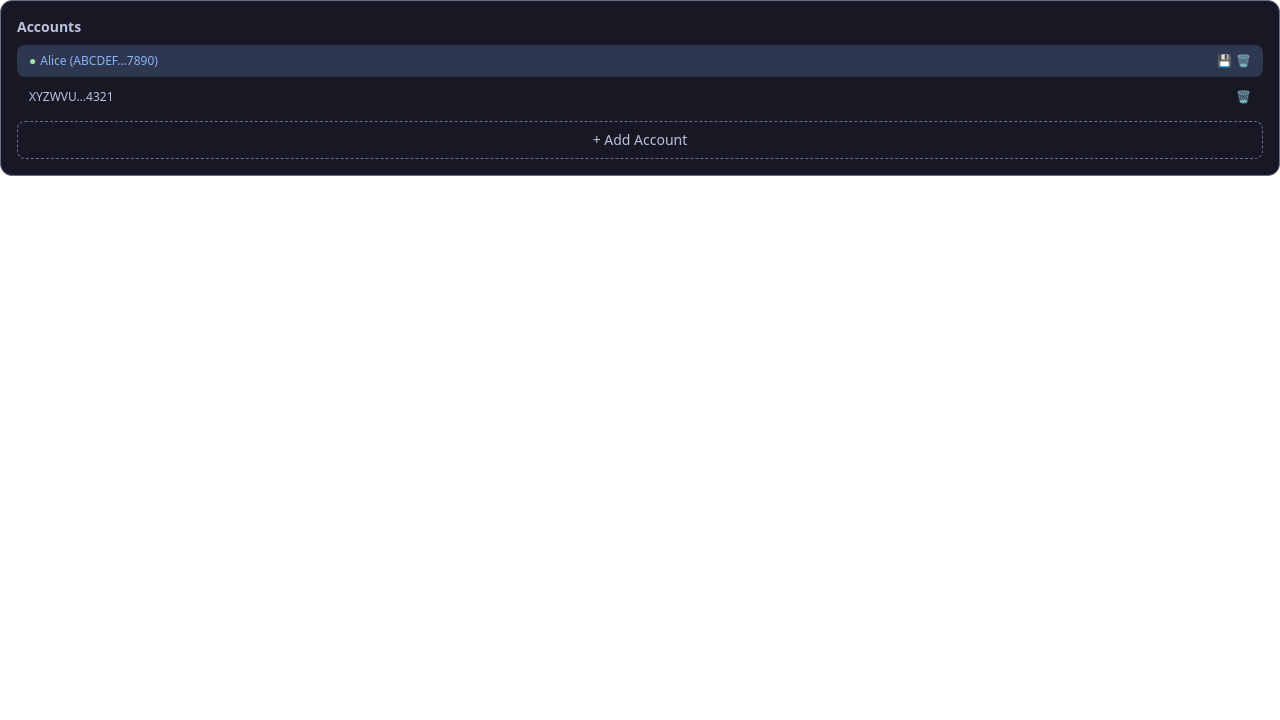
Test case: AccountSwitcher › opens setup modal when clicking add button
Click the button "+ Add Account".
click(640, 140)  # box [17,121,1263,159]
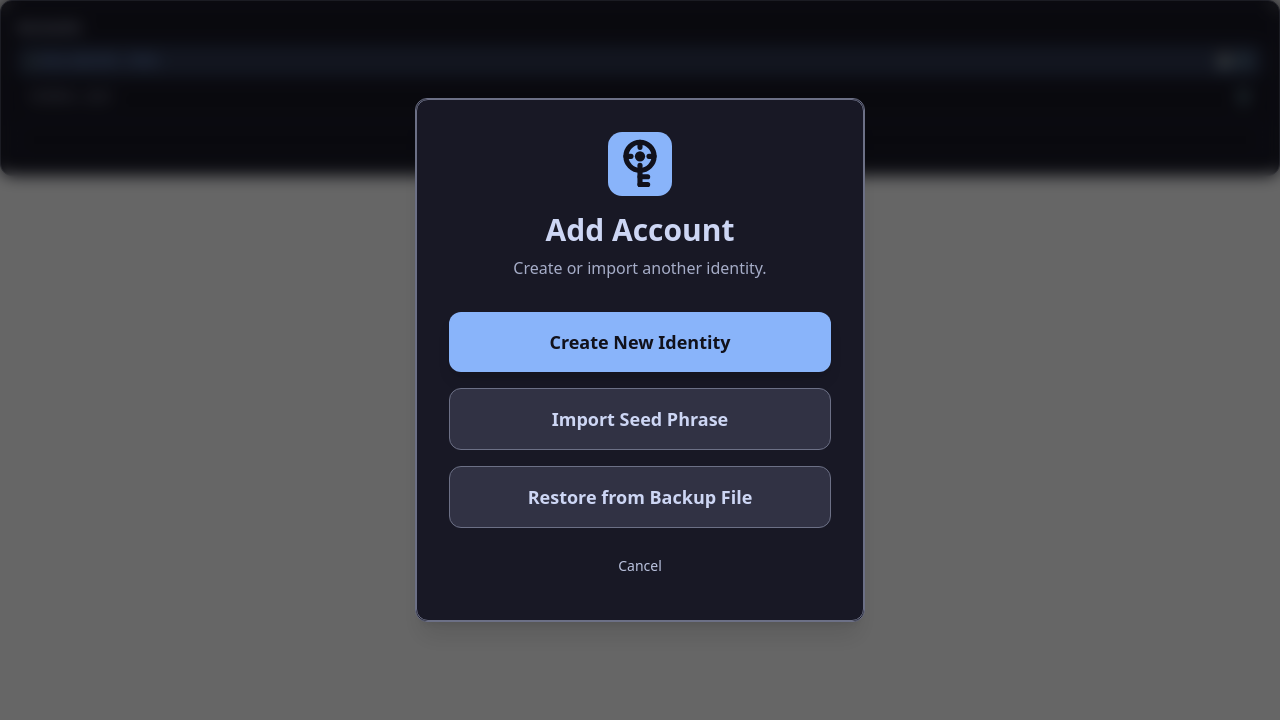
Expected: the heading "Add Account" is shown, [546,209,734,250]
Expected: the button "Create New Identity" is shown, [449,312,831,372]
